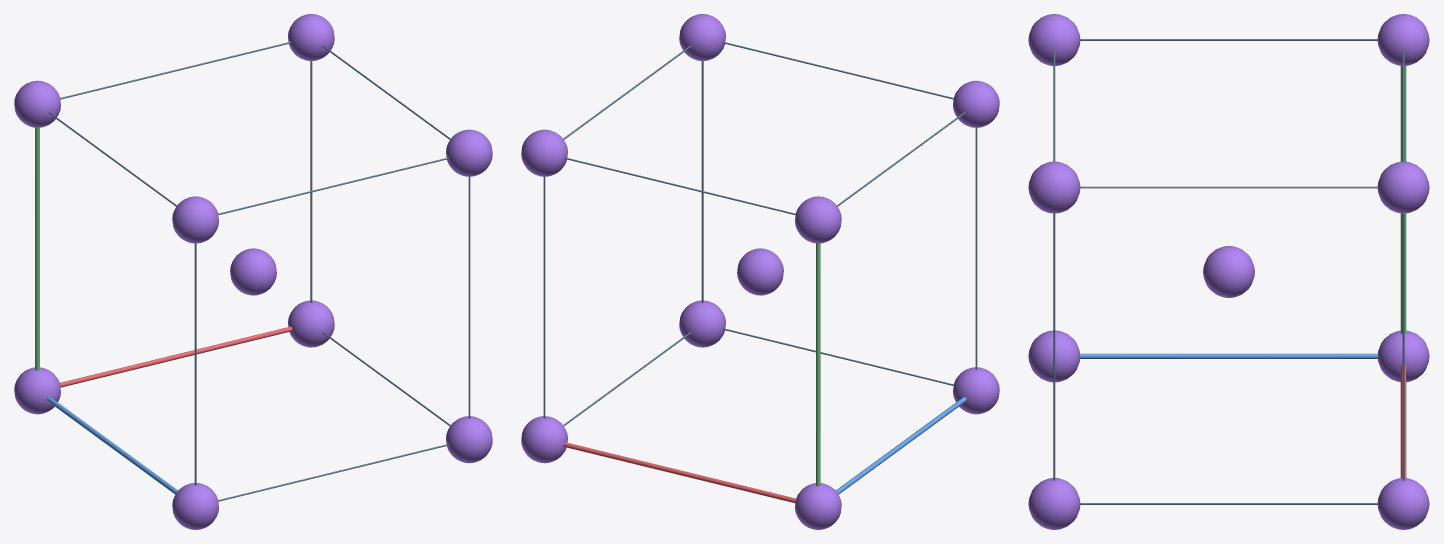
Rendered from nguyen-to-na.glb.
The picture shows the model from 3 angles, left to right: view 1: azimuth 30°, elevation 25°; view 2: azimuth 150°, elevation 25°; view 3: azimuth 270°, elevation 25°; orthographic projection. The views are drawn at different scales.
Visible parts, largest first — view 1: Na · Na · 1 (×9), Ô mạng và các trục a, b, c; view 2: Na · Na · 1 (×9), Ô mạng và các trục a, b, c; view 3: Na · Na · 1 (×9), Ô mạng và các trục a, b, c.
Boxes of the visible parts, <box> form: Na · Na · 1 (×9): <box>14,14,492,529</box>; Ô mạng và các trục a, b, c: <box>35,41,470,501</box>; Na · Na · 1 (×9): <box>521,14,999,529</box>; Ô mạng và các trục a, b, c: <box>543,41,977,503</box>; Na · Na · 1 (×9): <box>1028,14,1429,529</box>; Ô mạng và các trục a, b, c: <box>1053,39,1406,504</box>.
Bounding box in the file's own units: 4.93 × 4.93 × 4.93.
